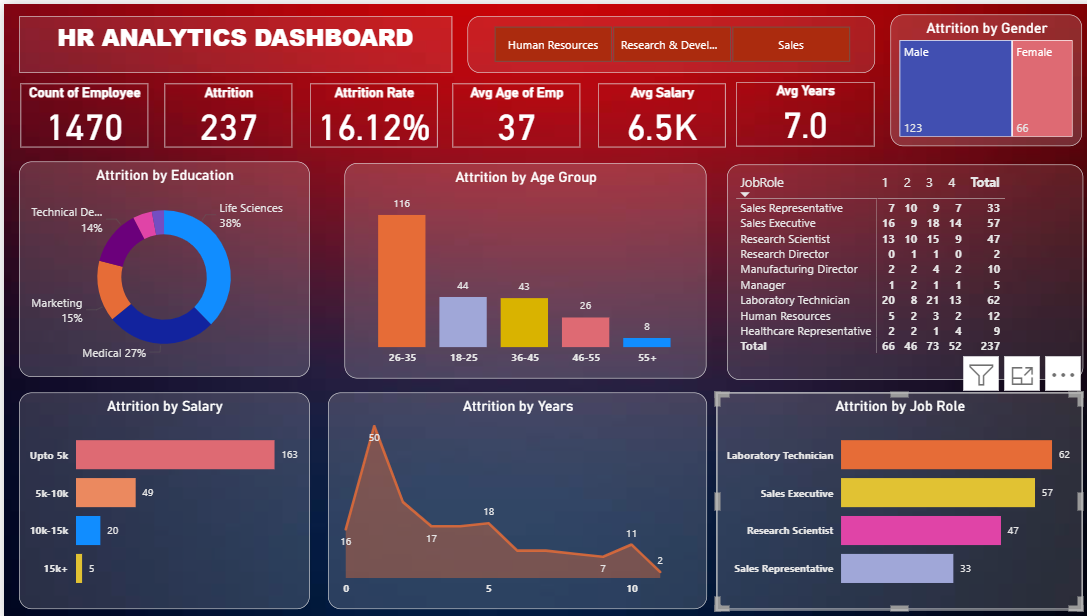

The dashboard page shown, as its layout file describes it:
{"tool":"powerbi","page":{"name":"Page 1","canvas":[1280,720],"ordinal":0},"visuals":[{"type":"card","title":"Count of Employee","fields":{"Values":["Count(HR_Analytics.EmpID)"]},"box":[19.1,92.3,149.5,74.8],"z":0},{"type":"card","title":"Attrition","fields":{"Values":["Sum(HR_Analytics.AttritionCount)"]},"box":[187.7,92.3,149.5,74.8],"z":1000},{"type":"card","title":"Attrition Rate","fields":{"Values":["HR_Analytics.Attrition Rate"]},"box":[357.9,92.3,149.5,74.8],"z":2000},{"type":"card","title":"Avg Age of Emp","fields":{"Values":["Avg(HR_Analytics.Age)"]},"box":[524.9,92.3,149.5,74.8],"z":3000},{"type":"card","title":"Avg Salary","fields":{"Values":["Avg(HR_Analytics.MonthlyIncome)"]},"box":[695.1,92.3,149.5,74.8],"z":4000},{"type":"card","title":"Avg Years","fields":{"Values":["Avg(HR_Analytics.YearsAtCompany)"]},"box":[856.7,91.7,161.7,75],"z":5000},{"type":"donutChart","title":"Attrition by Education","fields":{"Category":["HR_Analytics.EducationField"],"Y":["Sum(HR_Analytics.AttritionCount)"]},"box":[18.3,185,340,251.7],"z":6000},{"type":"columnChart","title":"Attrition by Age Group","fields":{"Category":["HR_Analytics.AgeGroup"],"Y":["Sum(HR_Analytics.AttritionCount)"]},"box":[398.3,186.7,423.3,251.7],"z":7000},{"type":"pivotTable","fields":{"Rows":["HR_Analytics.JobRole"],"Columns":["HR_Analytics.JobSatisfaction"],"Values":["Sum(HR_Analytics.AttritionCount)"]},"box":[845,188.3,416.7,251.7],"z":8000},{"type":"barChart","title":"Attrition by Salary","fields":{"Category":["HR_Analytics.SalarySlab"],"Y":["Sum(HR_Analytics.AttritionCount)"]},"box":[18.3,455,340,253.3],"z":9000},{"type":"barChart","title":"Attrition by Job Role","fields":{"Y":["Sum(HR_Analytics.AttritionCount)"],"Category":["HR_Analytics.JobRole"]},"box":[833.3,455,428.3,253.3],"z":10000},{"type":"areaChart","title":"Attrition by Years ","fields":{"Y":["Sum(HR_Analytics.AttritionCount)"],"Category":["HR_Analytics.YearsAtCompany"]},"box":[378.3,455,443.3,253.3],"z":11000},{"type":"treemap","title":"Attrition by Gender","fields":{"Values":["Sum(HR_Analytics.AttritionCount)"],"Group":["HR_Analytics.Gender"]},"box":[1037.1,12.7,224.3,154.3],"z":12000},{"type":"slicer","fields":{"Values":["HR_Analytics.Department"]},"box":[541.7,13.3,476.7,66.7],"z":13000},{"type":"textbox","box":[18.3,13.3,506.7,66.7],"z":14000}]}

Visuals, with their boxes in screenshot pixels (x1, y1, x2, y2), scaled from the page's 1280x720 canvas onto the 1087x616 screenshot:
"Count of Employee" card: 16/79/143/143
"Attrition" card: 159/79/286/143
"Attrition Rate" card: 304/79/431/143
"Avg Age of Emp" card: 446/79/573/143
"Avg Salary" card: 590/79/717/143
"Avg Years" card: 728/78/865/143
"Attrition by Education" donutChart: 16/158/304/374
"Attrition by Age Group" columnChart: 338/160/698/375
pivotTable - HR_Analytics.JobRole x HR_Analytics.JobSatisfaction: 718/161/1071/376
"Attrition by Salary" barChart: 16/389/304/606
"Attrition by Job Role" barChart: 708/389/1071/606
"Attrition by Years " areaChart: 321/389/698/606
"Attrition by Gender" treemap: 881/11/1071/143
slicer - HR_Analytics.Department: 460/11/865/68
textbox: 16/11/446/68
